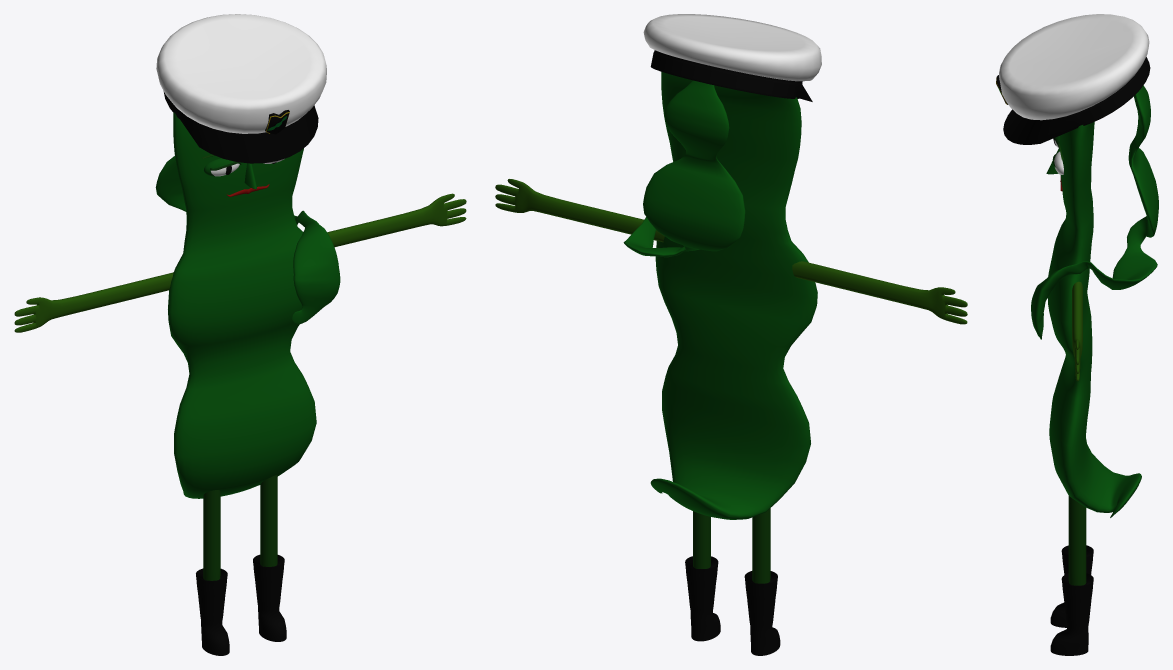
The model's file is Seaweed.fbx.
3 renders of one model, left to right at view 1: azimuth 30°, elevation 25°; view 2: azimuth 150°, elevation 25°; view 3: azimuth 270°, elevation 25°, orthographic. The views are drawn at different scales.
Parts seen in each view (by area): view 1: SeaWeed; view 2: SeaWeed; view 3: SeaWeed.
Part boxes in pixels (x1=…): SeaWeed: x1=14, y1=14, x2=466, y2=655; SeaWeed: x1=495, y1=14, x2=967, y2=655; SeaWeed: x1=996, y1=14, x2=1158, y2=655.
Size of the model in its own units: 793 by 1002 by 246.
